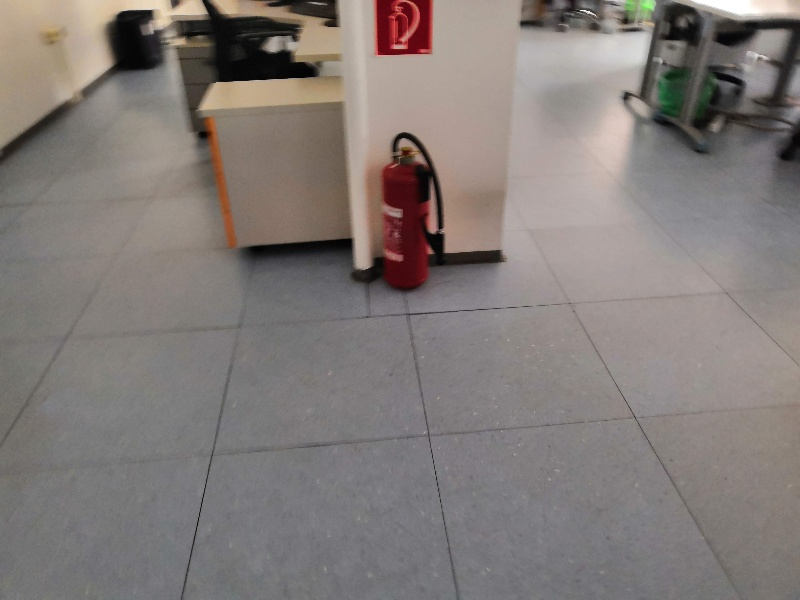vataparat: (381, 133, 445, 290)
